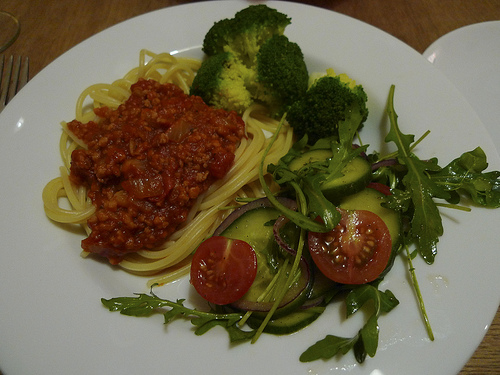broccoli: (188, 2, 309, 107), (284, 68, 370, 148)
